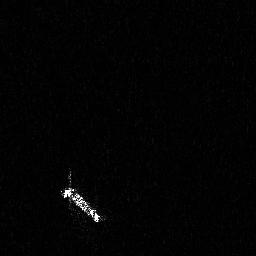ship: (58, 170, 105, 225)
